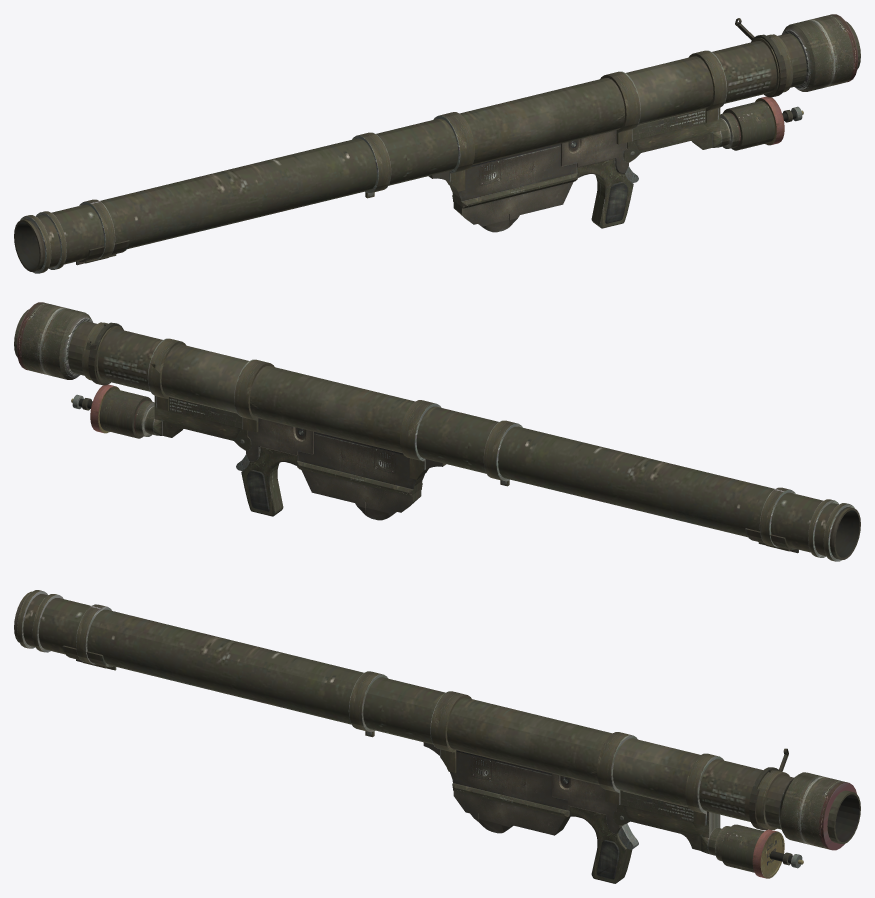
3 renders of one model, top to bottom at view 1: azimuth 30°, elevation 25°; view 2: azimuth 150°, elevation 25°; view 3: azimuth 330°, elevation 25°, orthographic.
Visible parts, largest first — view 1: ca94; view 2: ca94; view 3: ca94.
Part boxes in pixels (<box>): ca94: <box>14,14,860,273</box>; ca94: <box>14,302,860,561</box>; ca94: <box>14,590,860,883</box>.
Bounding box in the file's own units: 1.65 × 0.2881 × 0.1513.
